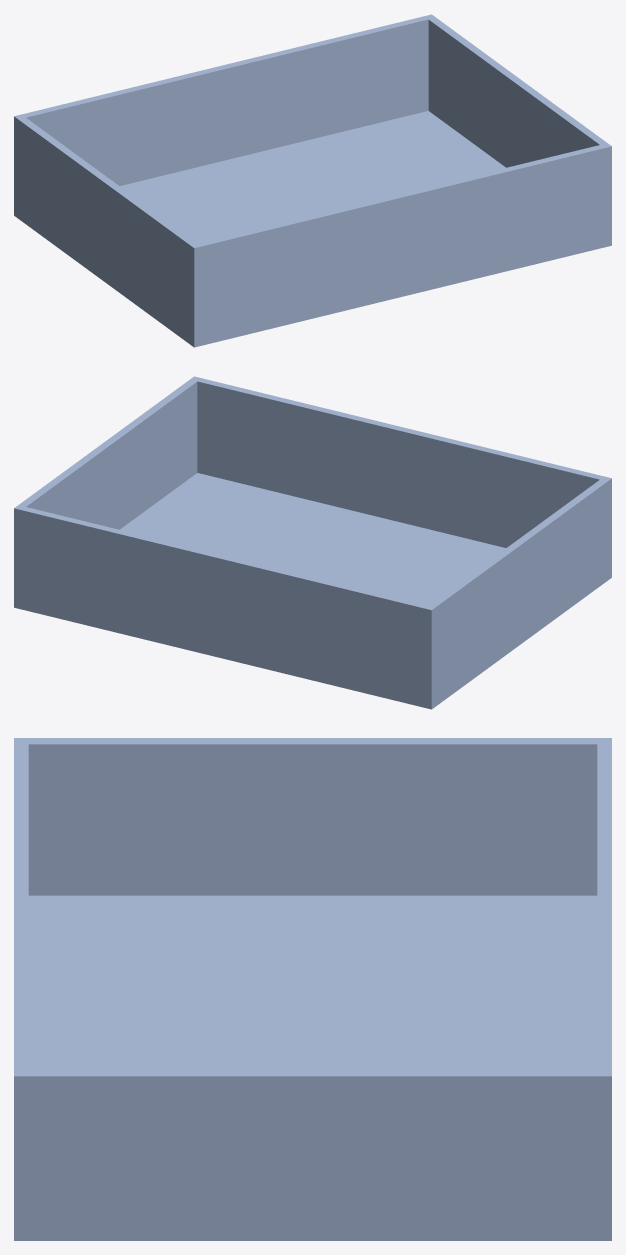
The model's file is Pre_ozonation_Contact_Tank_expansion.glb.
The picture shows the model from 3 angles, top to bottom: view 1: azimuth 30°, elevation 25°; view 2: azimuth 150°, elevation 25°; view 3: azimuth 270°, elevation 25°; orthographic projection. The views are drawn at different scales.
Parts seen in each view (by area): view 1: Floor1; view 2: Floor1; view 3: Floor1.
Part boxes in pixels (x1,y1,x2,y2): Floor1: (14, 14, 611, 347); Floor1: (14, 376, 611, 709); Floor1: (14, 738, 611, 1240).
Size of the model in its own units: 22 by 5 by 16.44.
